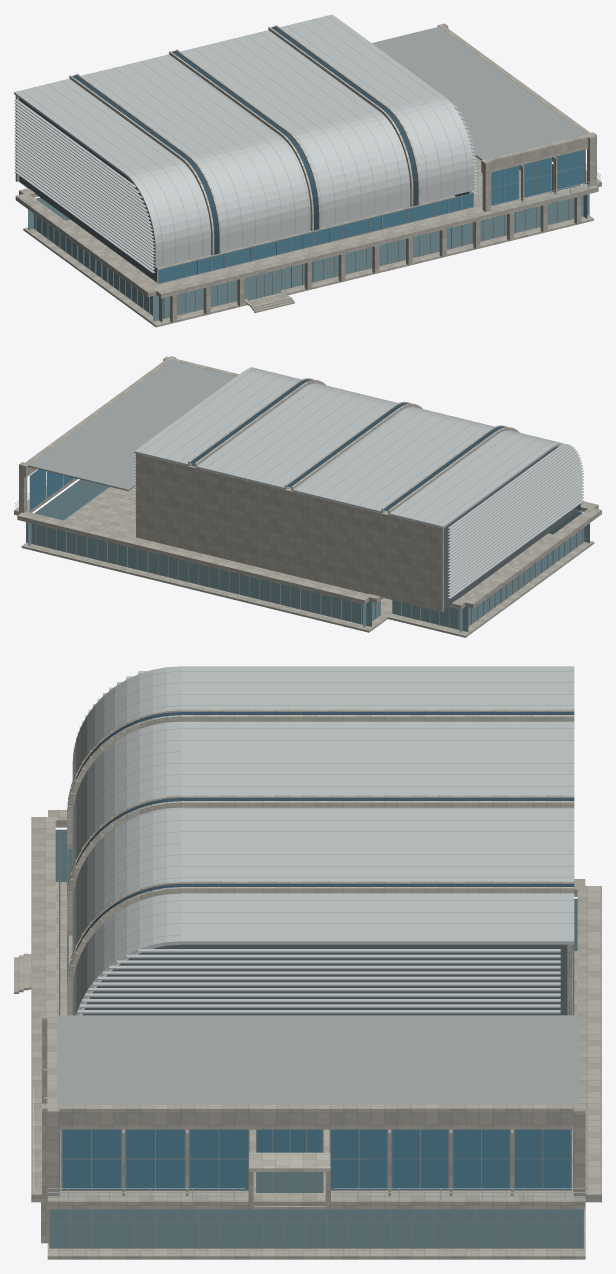
The picture shows the model from 3 angles, top to bottom: view 1: azimuth 30°, elevation 25°; view 2: azimuth 150°, elevation 25°; view 3: azimuth 270°, elevation 25°; orthographic projection. The views are drawn at different scales.
Parts seen in each view (by area): view 1: gym__metal, unist-batch-gym__stair-plaza, gym__roof, gym__lightglass, gym__frame, gym__glass, gym__trim, gym__roofglass, gym__dark; view 2: gym__metal, gym__wall, unist-batch-gym__stair-plaza, gym__lightglass, gym__roof, gym__frame, gym__trim, gym__roofglass, gym__dark, gym__glass; view 3: gym__metal, unist-batch-gym__stair-plaza, gym__roof, gym__glass, gym__lightglass, gym__trim, gym__frame, gym__dark, gym__roofglass.
Part boxes in pixels (bbox=[...]): gym__metal: bbox=[14, 14, 600, 273]; unist-batch-gym__stair-plaza: bbox=[15, 23, 601, 327]; gym__roof: bbox=[372, 26, 586, 160]; gym__lightglass: bbox=[28, 164, 588, 322]; gym__frame: bbox=[21, 16, 589, 322]; gym__glass: bbox=[158, 149, 585, 283]; gym__trim: bbox=[69, 25, 420, 255]; gym__roofglass: bbox=[72, 26, 418, 254]; gym__dark: bbox=[19, 98, 469, 282]; gym__metal: bbox=[15, 367, 583, 598]; gym__wall: bbox=[136, 453, 443, 612]; unist-batch-gym__stair-plaza: bbox=[14, 356, 601, 637]; gym__lightglass: bbox=[26, 479, 589, 631]; gym__roof: bbox=[27, 360, 235, 491]; gym__frame: bbox=[26, 369, 584, 632]; gym__trim: bbox=[188, 378, 519, 514]; gym__roofglass: bbox=[190, 379, 505, 510]; gym__dark: bbox=[190, 446, 576, 609]; gym__glass: bbox=[30, 469, 580, 510]; gym__metal: bbox=[33, 666, 584, 1200]; unist-batch-gym__stair-plaza: bbox=[14, 810, 601, 1259]; gym__roof: bbox=[57, 1015, 579, 1104]; gym__glass: bbox=[62, 1129, 570, 1189]; gym__lightglass: bbox=[50, 829, 582, 1247]; gym__trim: bbox=[67, 709, 574, 1171]; gym__frame: bbox=[49, 671, 583, 1248]; gym__dark: bbox=[82, 944, 567, 1015]; gym__roofglass: bbox=[76, 712, 574, 949].
Bounding box in the file's own units: 69.66 × 18.46 × 43.37.
Materials: 11 (4 with a texture image).
